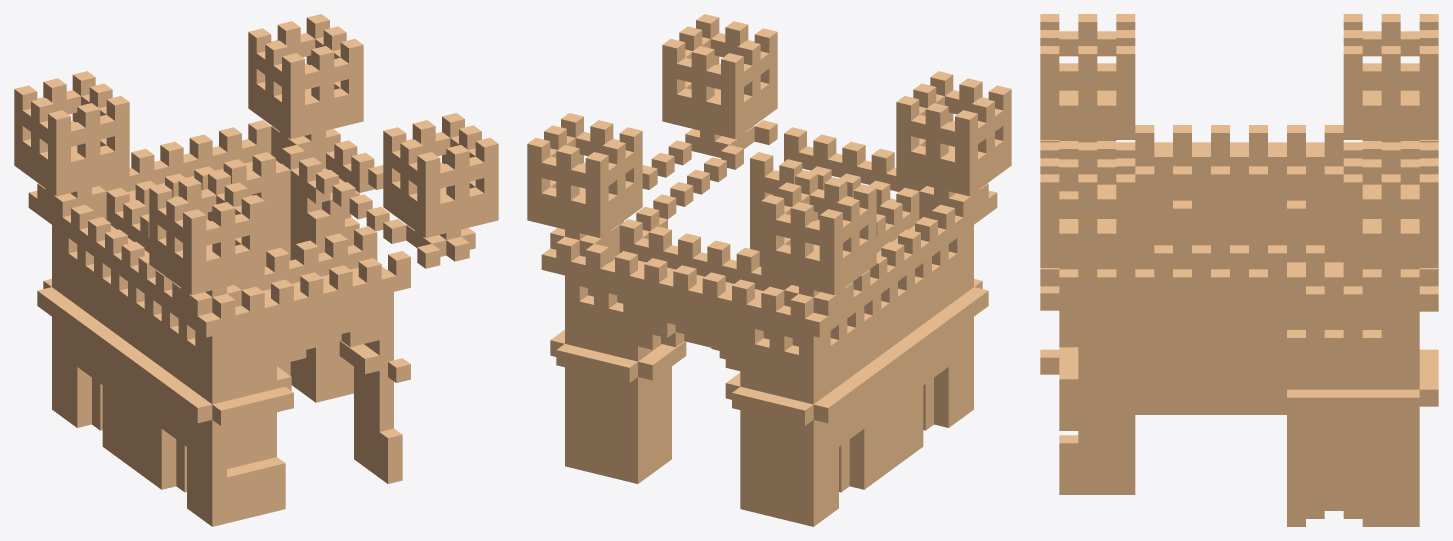
File: castle.obj
3 views of the same model, side by side, from view 1: azimuth 30°, elevation 25°; view 2: azimuth 150°, elevation 25°; view 3: azimuth 270°, elevation 25° (orthographic). The views are drawn at different scales.
Bounding box in the file's own units: 21 × 21 × 21.
1 material, 1 textured.
